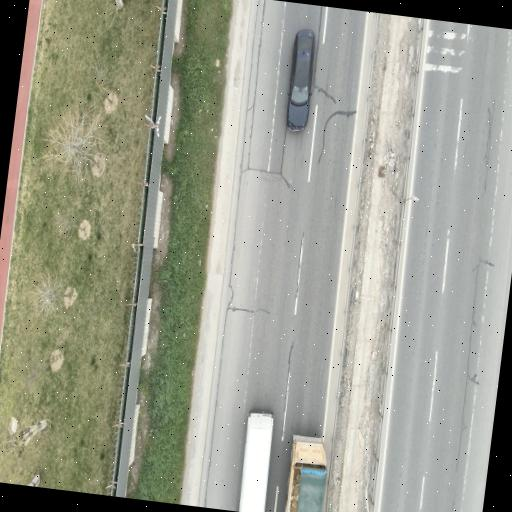car: (286, 28, 314, 130)
truck: (239, 411, 272, 511), (285, 435, 326, 511)
